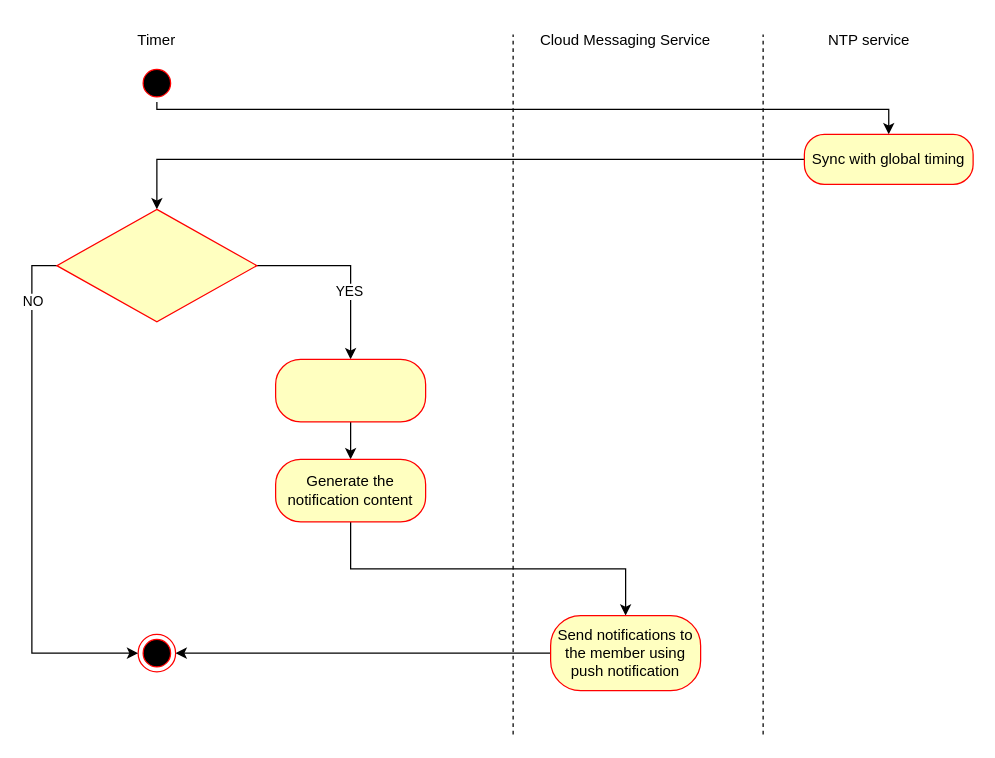
Image size: 995x758. Some labels were removed from this diagram. Each missing label, with the centre of its shape:
check if the time hit predefined stored time: (x=156, y=265)
fetch users who activated notification service: (x=350, y=390)
